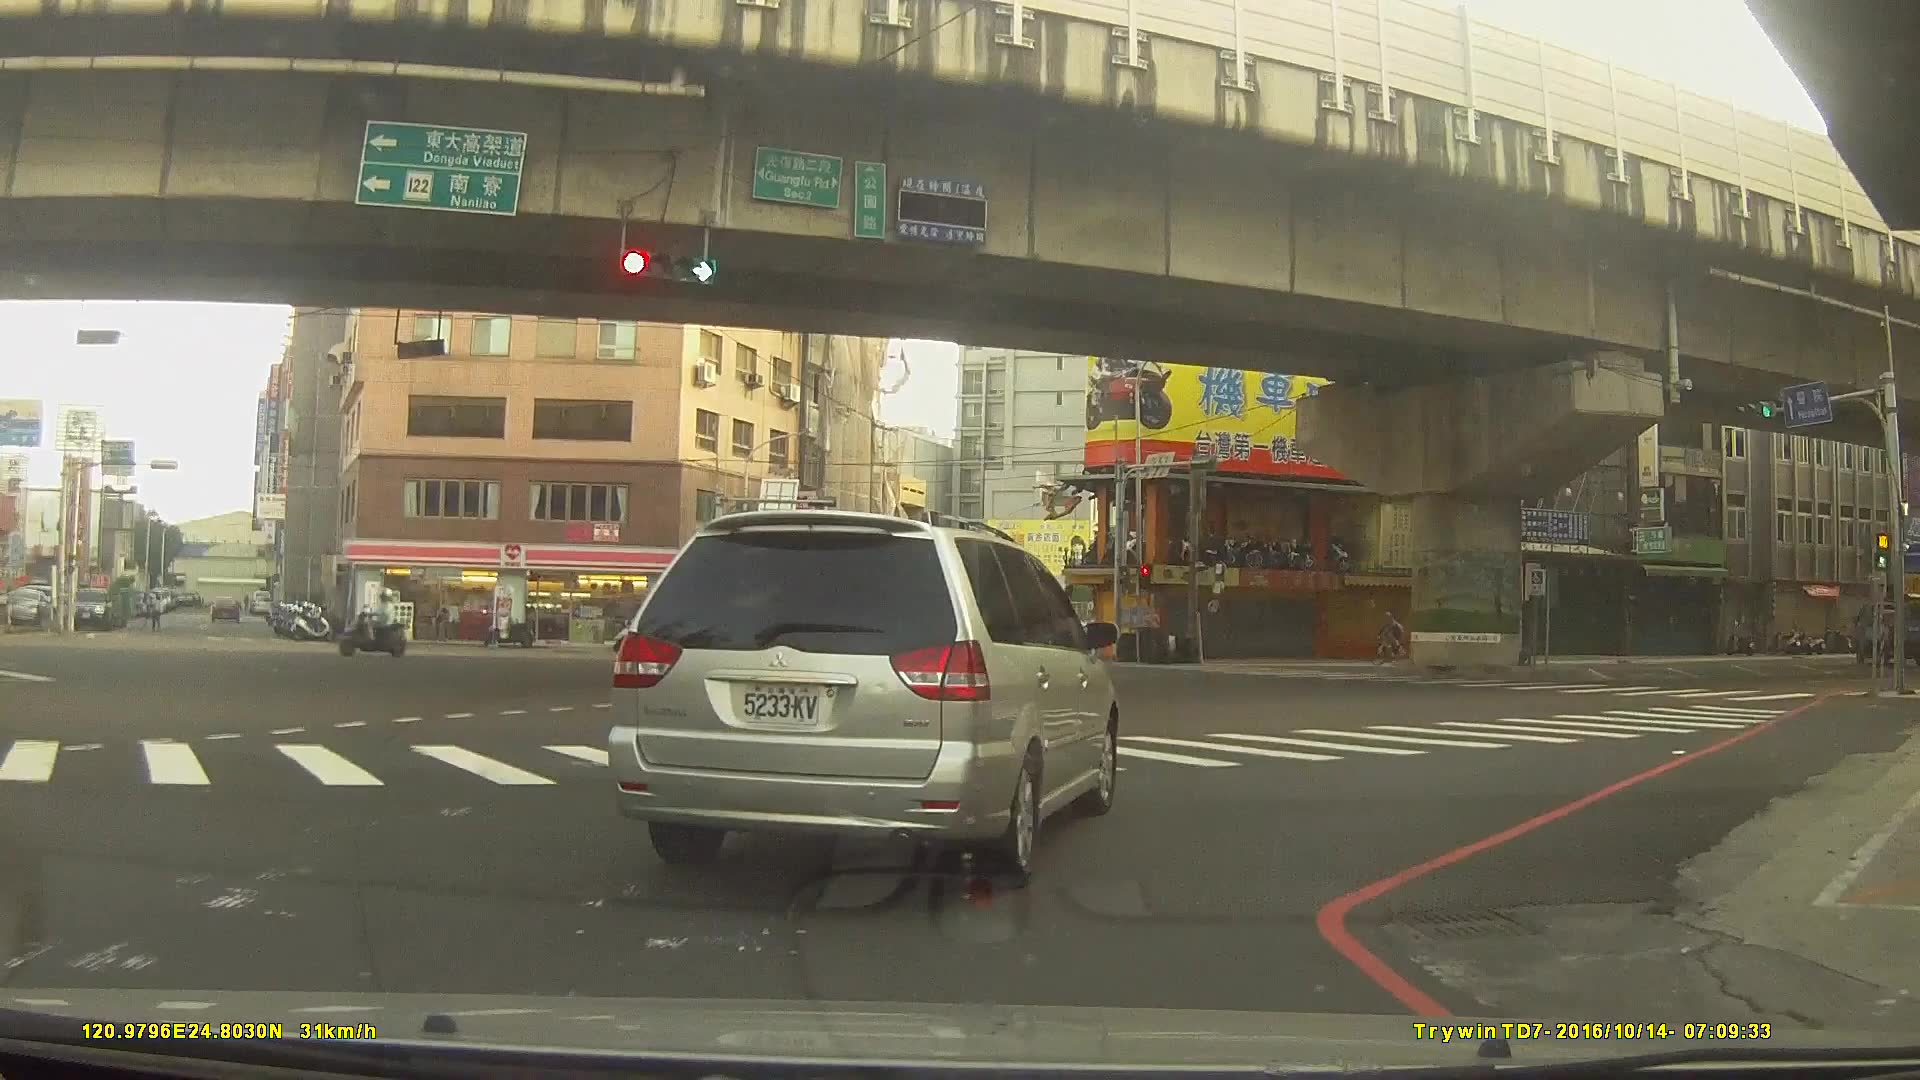rider: (341, 591, 414, 659), (1366, 610, 1411, 669)
vehicle: (603, 507, 1121, 880), (1851, 599, 1920, 664), (870, 627, 939, 667), (67, 585, 111, 630), (543, 606, 605, 633), (206, 593, 241, 622)
